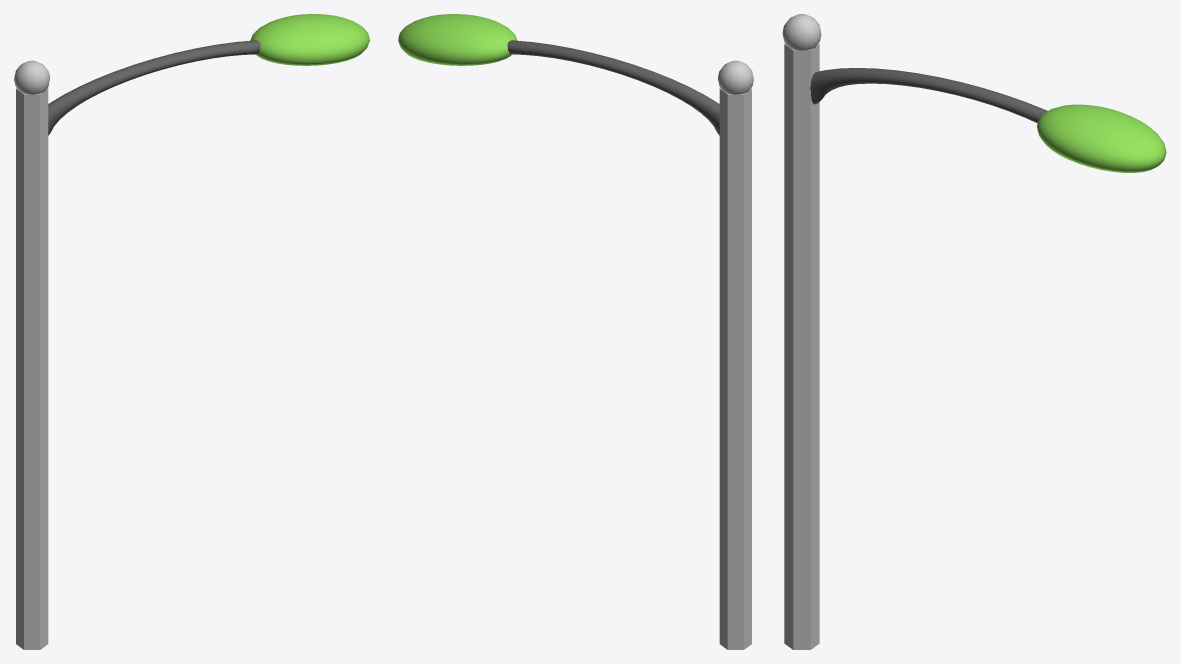
Rendered from Lamp.obj.
The picture shows the model from 3 angles, left to right: view 1: azimuth 30°, elevation 25°; view 2: azimuth 150°, elevation 25°; view 3: azimuth 330°, elevation 25°; orthographic projection. The views are drawn at different scales.
Visible parts, largest first — view 1: Pole_Cylinder, LightPart_Sphere, Torus_001, Sphere_Sphere_001; view 2: Pole_Cylinder, LightPart_Sphere, Torus_001, Sphere_Sphere_001; view 3: Pole_Cylinder, LightPart_Sphere, Torus_001, Sphere_Sphere_001.
Part boxes in pixels (x1=…): Pole_Cylinder: x1=16, y1=88, x2=48, y2=649; LightPart_Sphere: x1=250, y1=14, x2=369, y2=65; Torus_001: x1=48, y1=40, x2=260, y2=135; Sphere_Sphere_001: x1=14, y1=60, x2=49, y2=94; Pole_Cylinder: x1=719, y1=88, x2=751, y2=649; LightPart_Sphere: x1=398, y1=14, x2=517, y2=65; Torus_001: x1=507, y1=40, x2=719, y2=135; Sphere_Sphere_001: x1=718, y1=60, x2=753, y2=94; Pole_Cylinder: x1=784, y1=43, x2=819, y2=649; LightPart_Sphere: x1=1037, y1=104, x2=1166, y2=172; Torus_001: x1=810, y1=68, x2=1047, y2=123; Sphere_Sphere_001: x1=782, y1=14, x2=821, y2=50.
Size of the model in its own units: 9.13 by 14.53 by 2.
